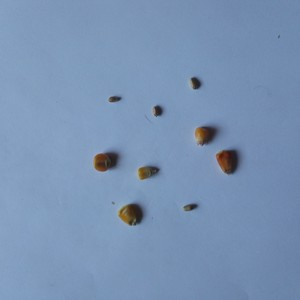maiz: (116, 202, 144, 229), (213, 148, 239, 176), (90, 151, 115, 174), (191, 125, 212, 147), (136, 162, 159, 182)
trigo: (188, 75, 201, 91), (183, 201, 197, 212), (152, 103, 162, 118), (106, 94, 120, 104)
